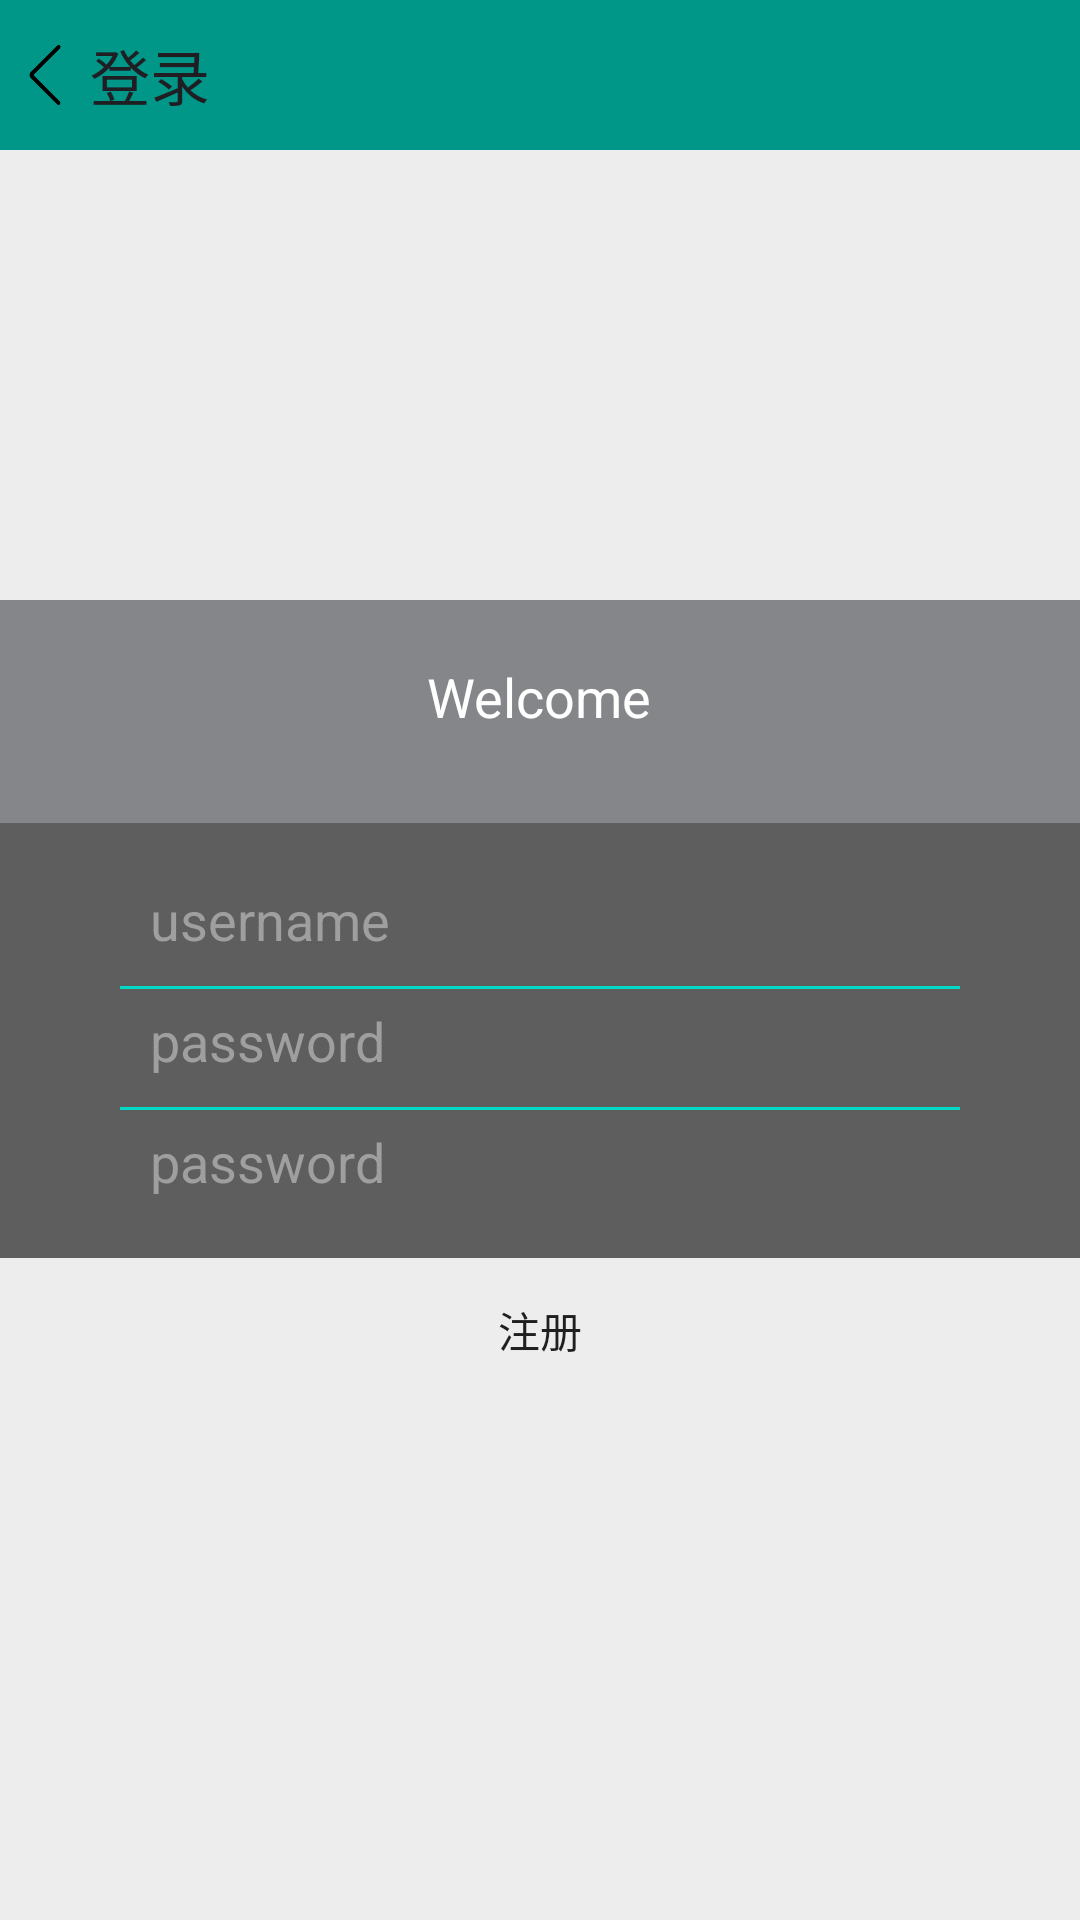

Where icons sit on this 1080 × 1920 app screen, as [x1=x1, y1=y1, x2=x2, y2=y2]:
back: [x1=29, y1=45, x2=61, y2=105]
